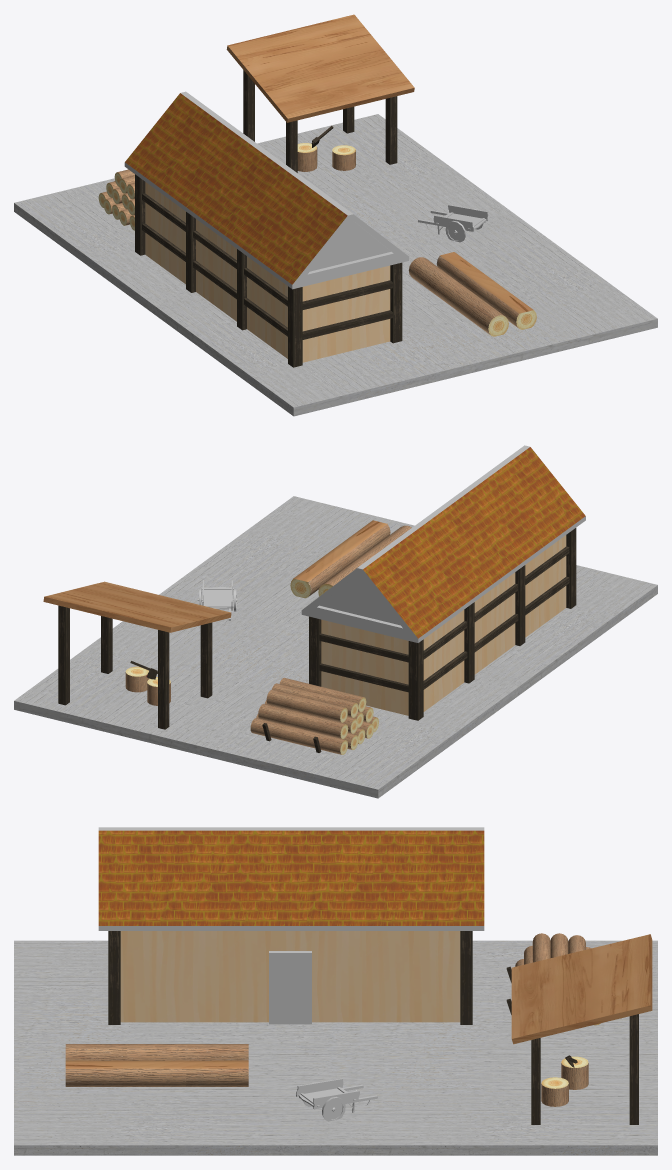
Rendered from famuc.fbx.
3 renders of one model, top to bottom at view 1: azimuth 30°, elevation 25°; view 2: azimuth 150°, elevation 25°; view 3: azimuth 270°, elevation 25°, orthographic. The views are drawn at different scales.
Visible parts, largest first — view 1: famuchang; view 2: famuchang; view 3: famuchang.
Boxes of the visible parts, box(x1,y1,x2,y2) form: famuchang: box(14, 14, 657, 416); famuchang: box(14, 445, 657, 798); famuchang: box(14, 827, 657, 1155).
Bounding box in the file's own units: 6.2 × 2.47 × 8.25.
